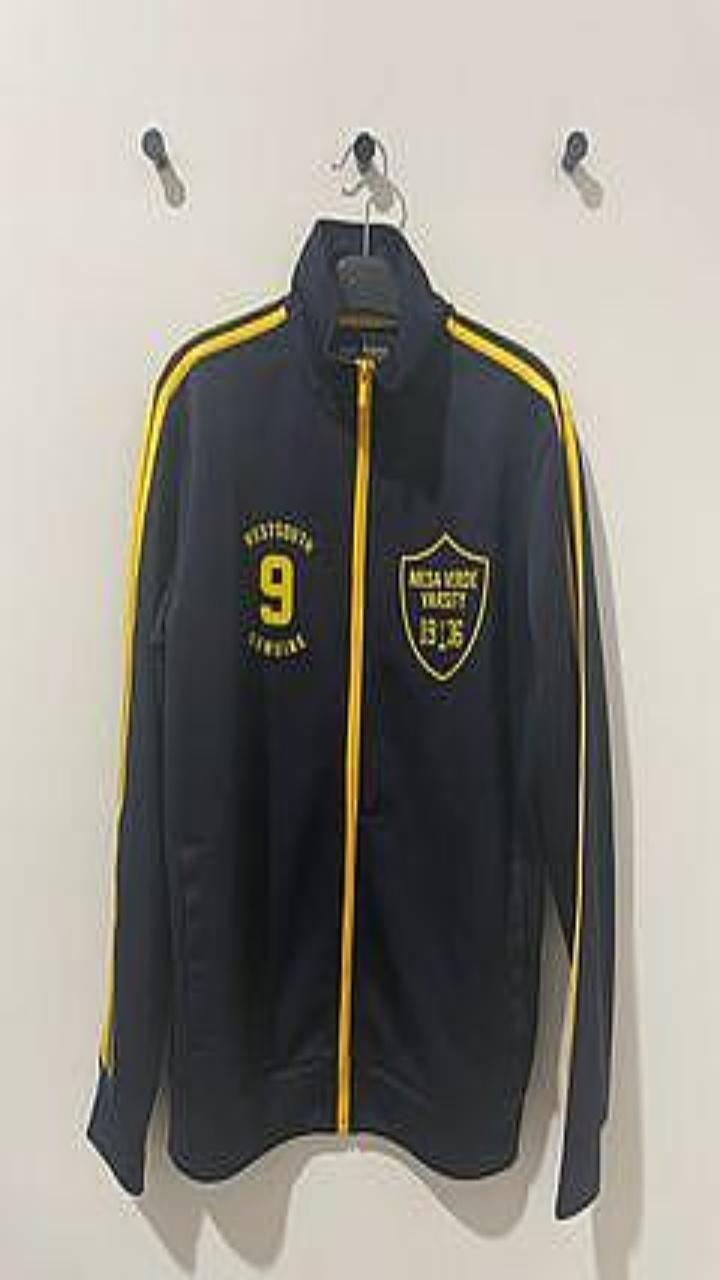Sports_Jacket: (87, 217, 613, 1216)
